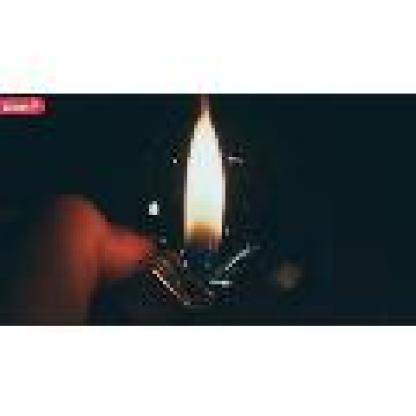Fire: (180, 103, 236, 249)
